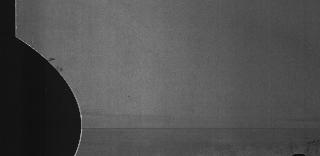welding line: (72, 120, 320, 136)
